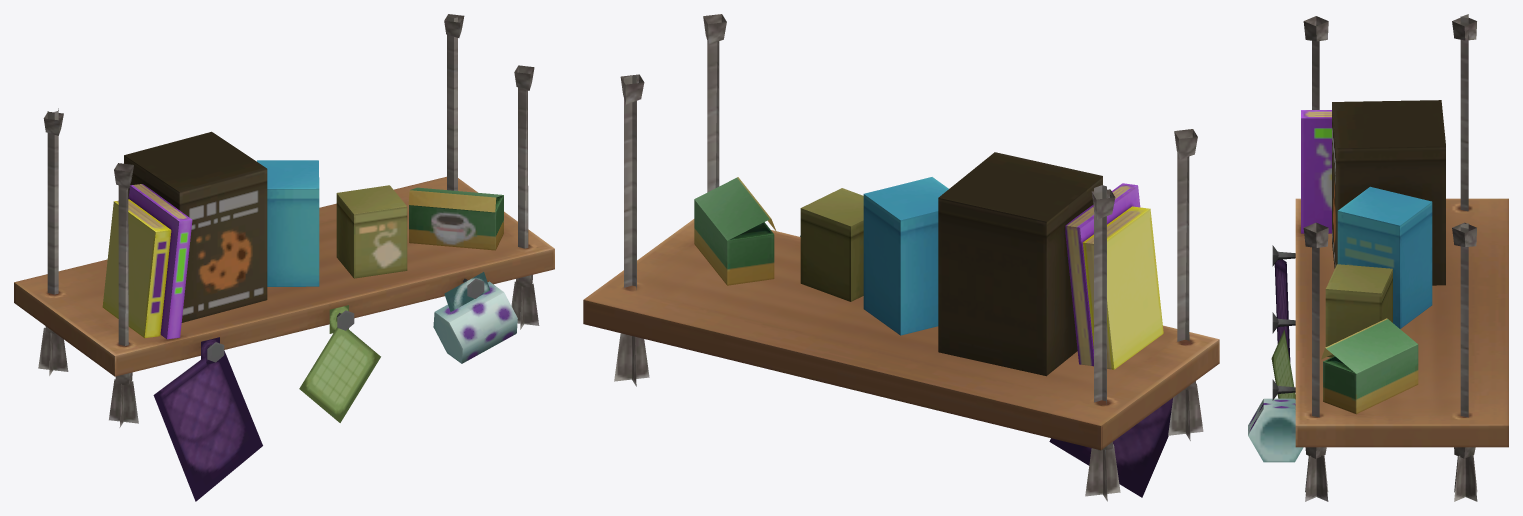
The model's file is estanteriaConCosas_1.fbx.
3 views of the same model, side by side, from view 1: azimuth 30°, elevation 25°; view 2: azimuth 150°, elevation 25°; view 3: azimuth 270°, elevation 25° (orthographic). The views are drawn at different scales.
Parts seen in each view (by area): view 1: s4studio_mesh_2; view 2: s4studio_mesh_2; view 3: s4studio_mesh_2.
Part boxes in pixels (x1=…): s4studio_mesh_2: x1=14, y1=14, x2=554, y2=501; s4studio_mesh_2: x1=583, y1=14, x2=1219, y2=501; s4studio_mesh_2: x1=1248, y1=14, x2=1508, y2=501.
Size of the model in its own units: 85.12 by 63.08 by 41.34.
Materials: 2 (2 with a texture image).
